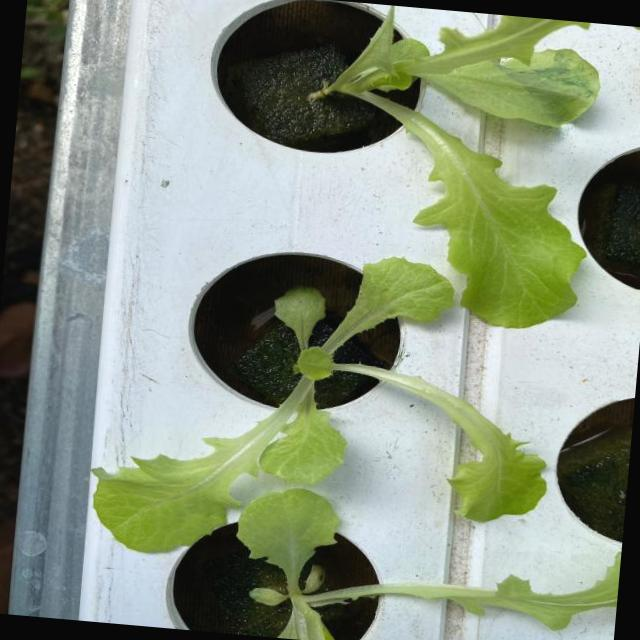Lettuce-Not-Ready-to-Harvest: (93, 257, 545, 551), (318, 6, 599, 327), (237, 488, 620, 640)
